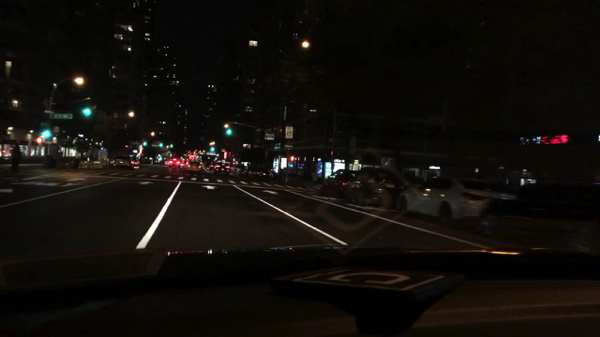car: (475, 177, 600, 257), (397, 174, 517, 227), (339, 166, 410, 209), (320, 169, 356, 198), (115, 154, 133, 169), (253, 166, 272, 180), (213, 162, 232, 176), (199, 154, 215, 170), (168, 158, 181, 169), (131, 159, 143, 169), (242, 166, 251, 176), (235, 166, 243, 176), (182, 158, 190, 166)
person: (11, 141, 22, 174)
traffic light: (83, 107, 93, 118), (225, 129, 233, 137)
traffic sign: (50, 113, 74, 120), (284, 126, 294, 140), (264, 132, 275, 141), (53, 126, 59, 135), (44, 109, 54, 114), (284, 144, 294, 149)
